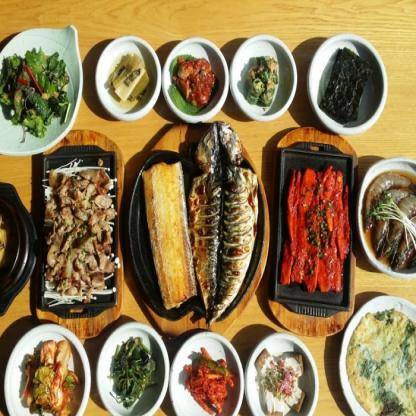Peixe: (183, 130, 264, 318)
